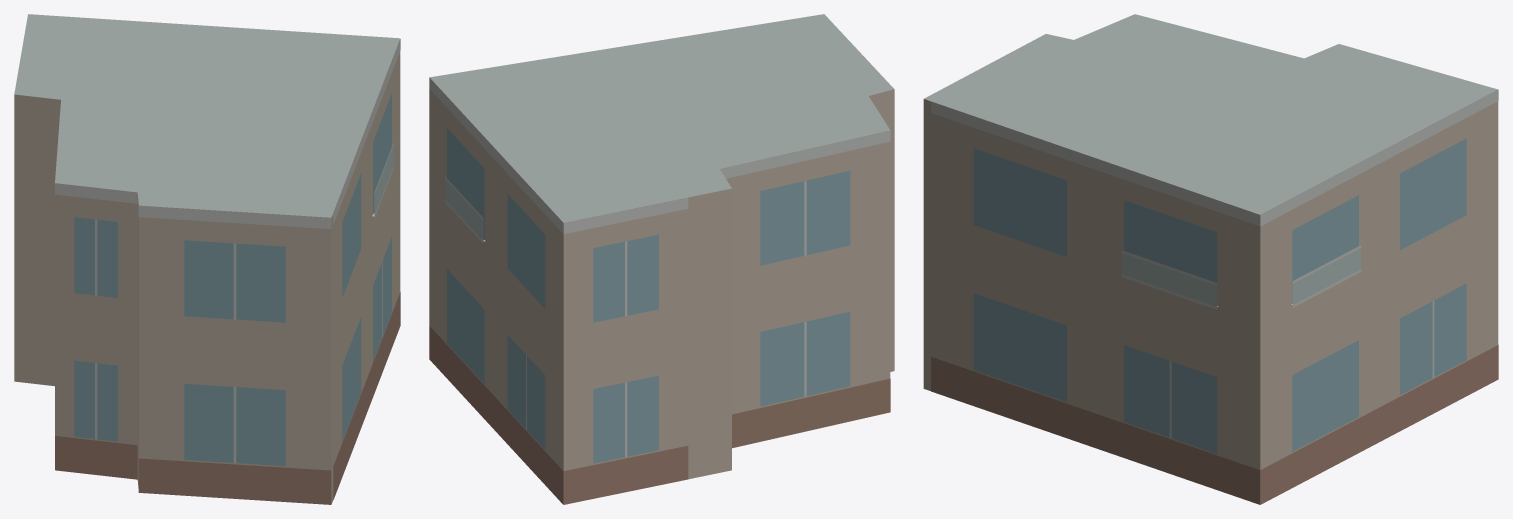
File: survey-upis-32572309.glb
3 views of the same model, side by side, from view 1: azimuth 30°, elevation 25°; view 2: azimuth 150°, elevation 25°; view 3: azimuth 270°, elevation 25° (orthographic). The views are drawn at different scales.
Visible parts, largest first — view 1: survey-upis-32572309.tmp; view 2: survey-upis-32572309.tmp; view 3: survey-upis-32572309.tmp.
Boxes of the visible parts, x1,y1,x2,y2 form: survey-upis-32572309.tmp: (14,14,400,504); survey-upis-32572309.tmp: (429,14,894,504); survey-upis-32572309.tmp: (923,14,1498,504).
Bounding box in the file's own units: 9.07 × 6.1 × 10.96.
